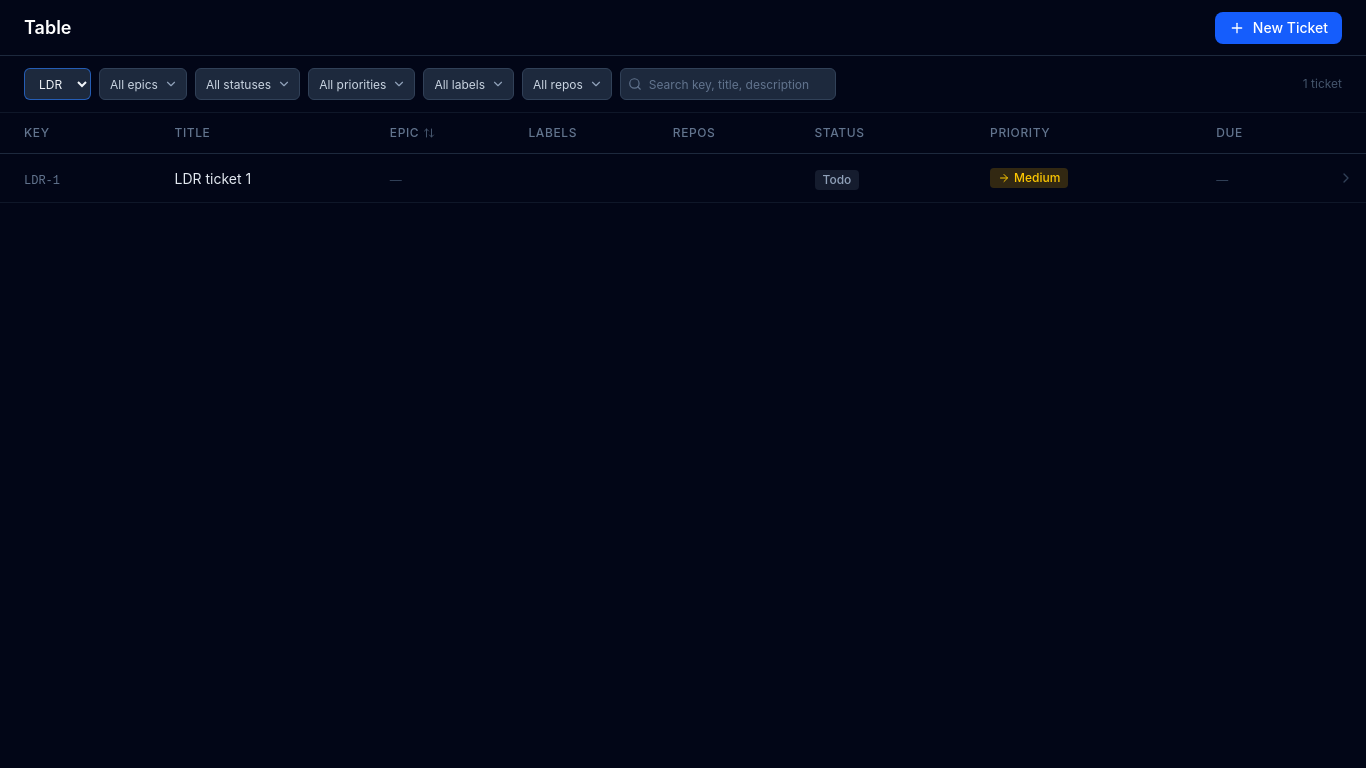
Test: Table's new-ticket form › starts in the project the view shows
Click the button "New Ticket" at (1278, 28), box top-left (1215, 12), bottom-right (1342, 44)
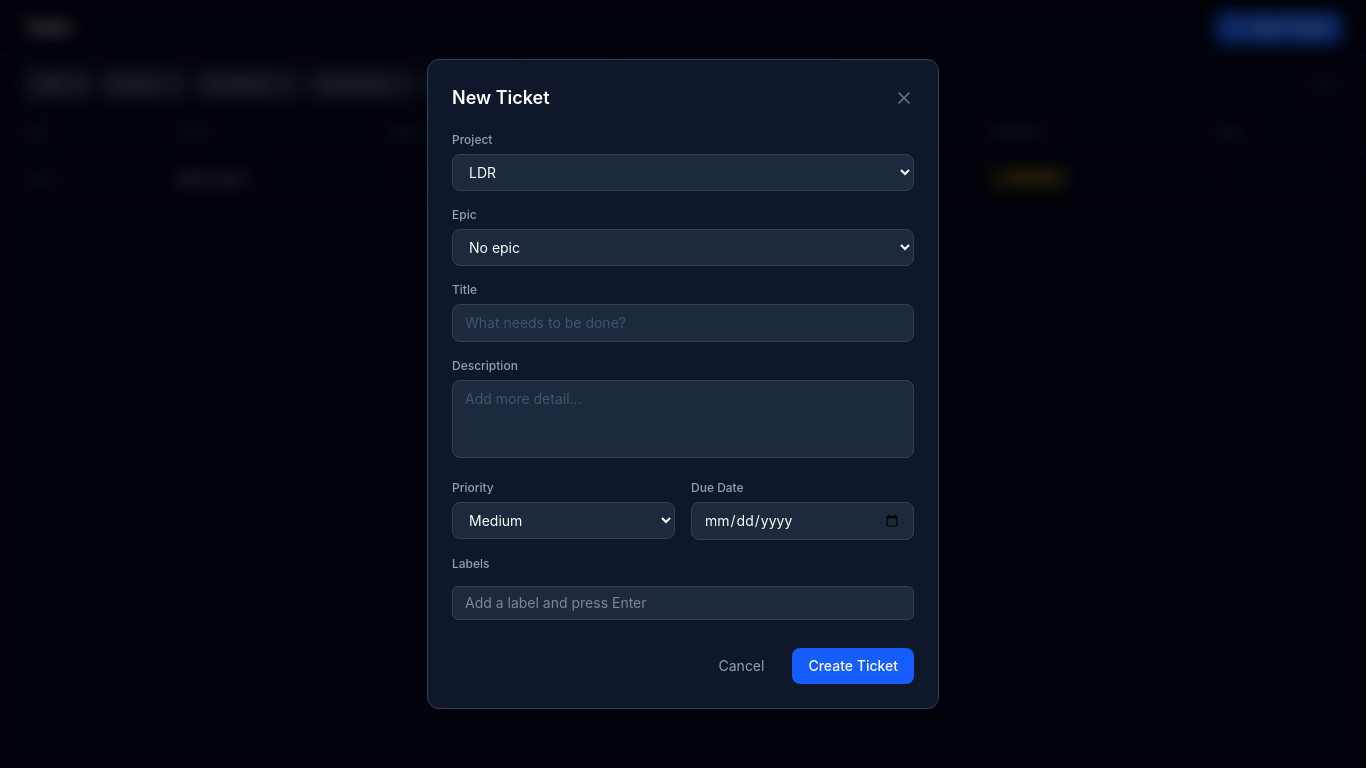
Expected: the dropdown labelled "Project" shows "LDR", top-left (452, 154), bottom-right (914, 191)
